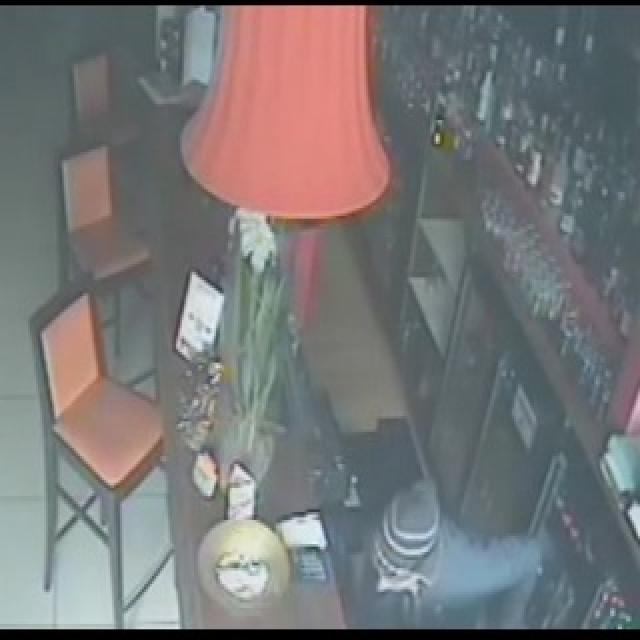thief: (348, 473, 478, 613)
